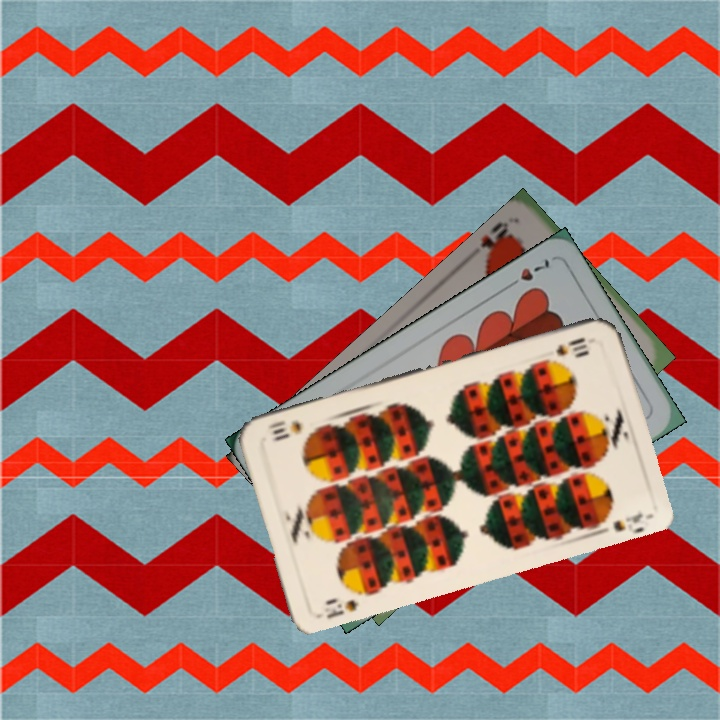H7: (501, 254, 552, 292)
HO: (476, 217, 516, 266)
S10: (313, 596, 361, 622), (552, 333, 590, 359)
